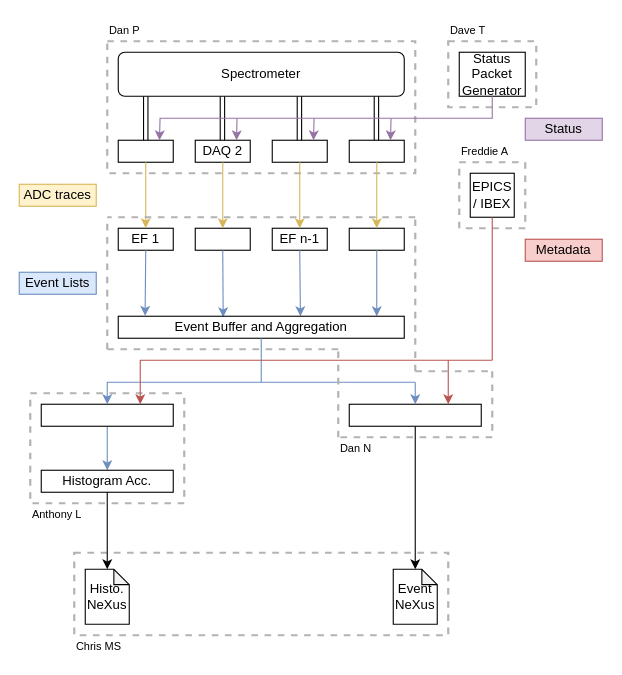
The diagram is 622 pixels wide and 675 high, and some of its shapes have lost their labels. Here are the shapes that lost their labels. From the top down, the centre of each, then its label:
(145,150): DAQ 1
(299,150): DAQ n-1
(376,150): DAQ n
(222,238): EF 2
(376,238): EF n
(106,414): Event Filtering
(414,414): File Writer
